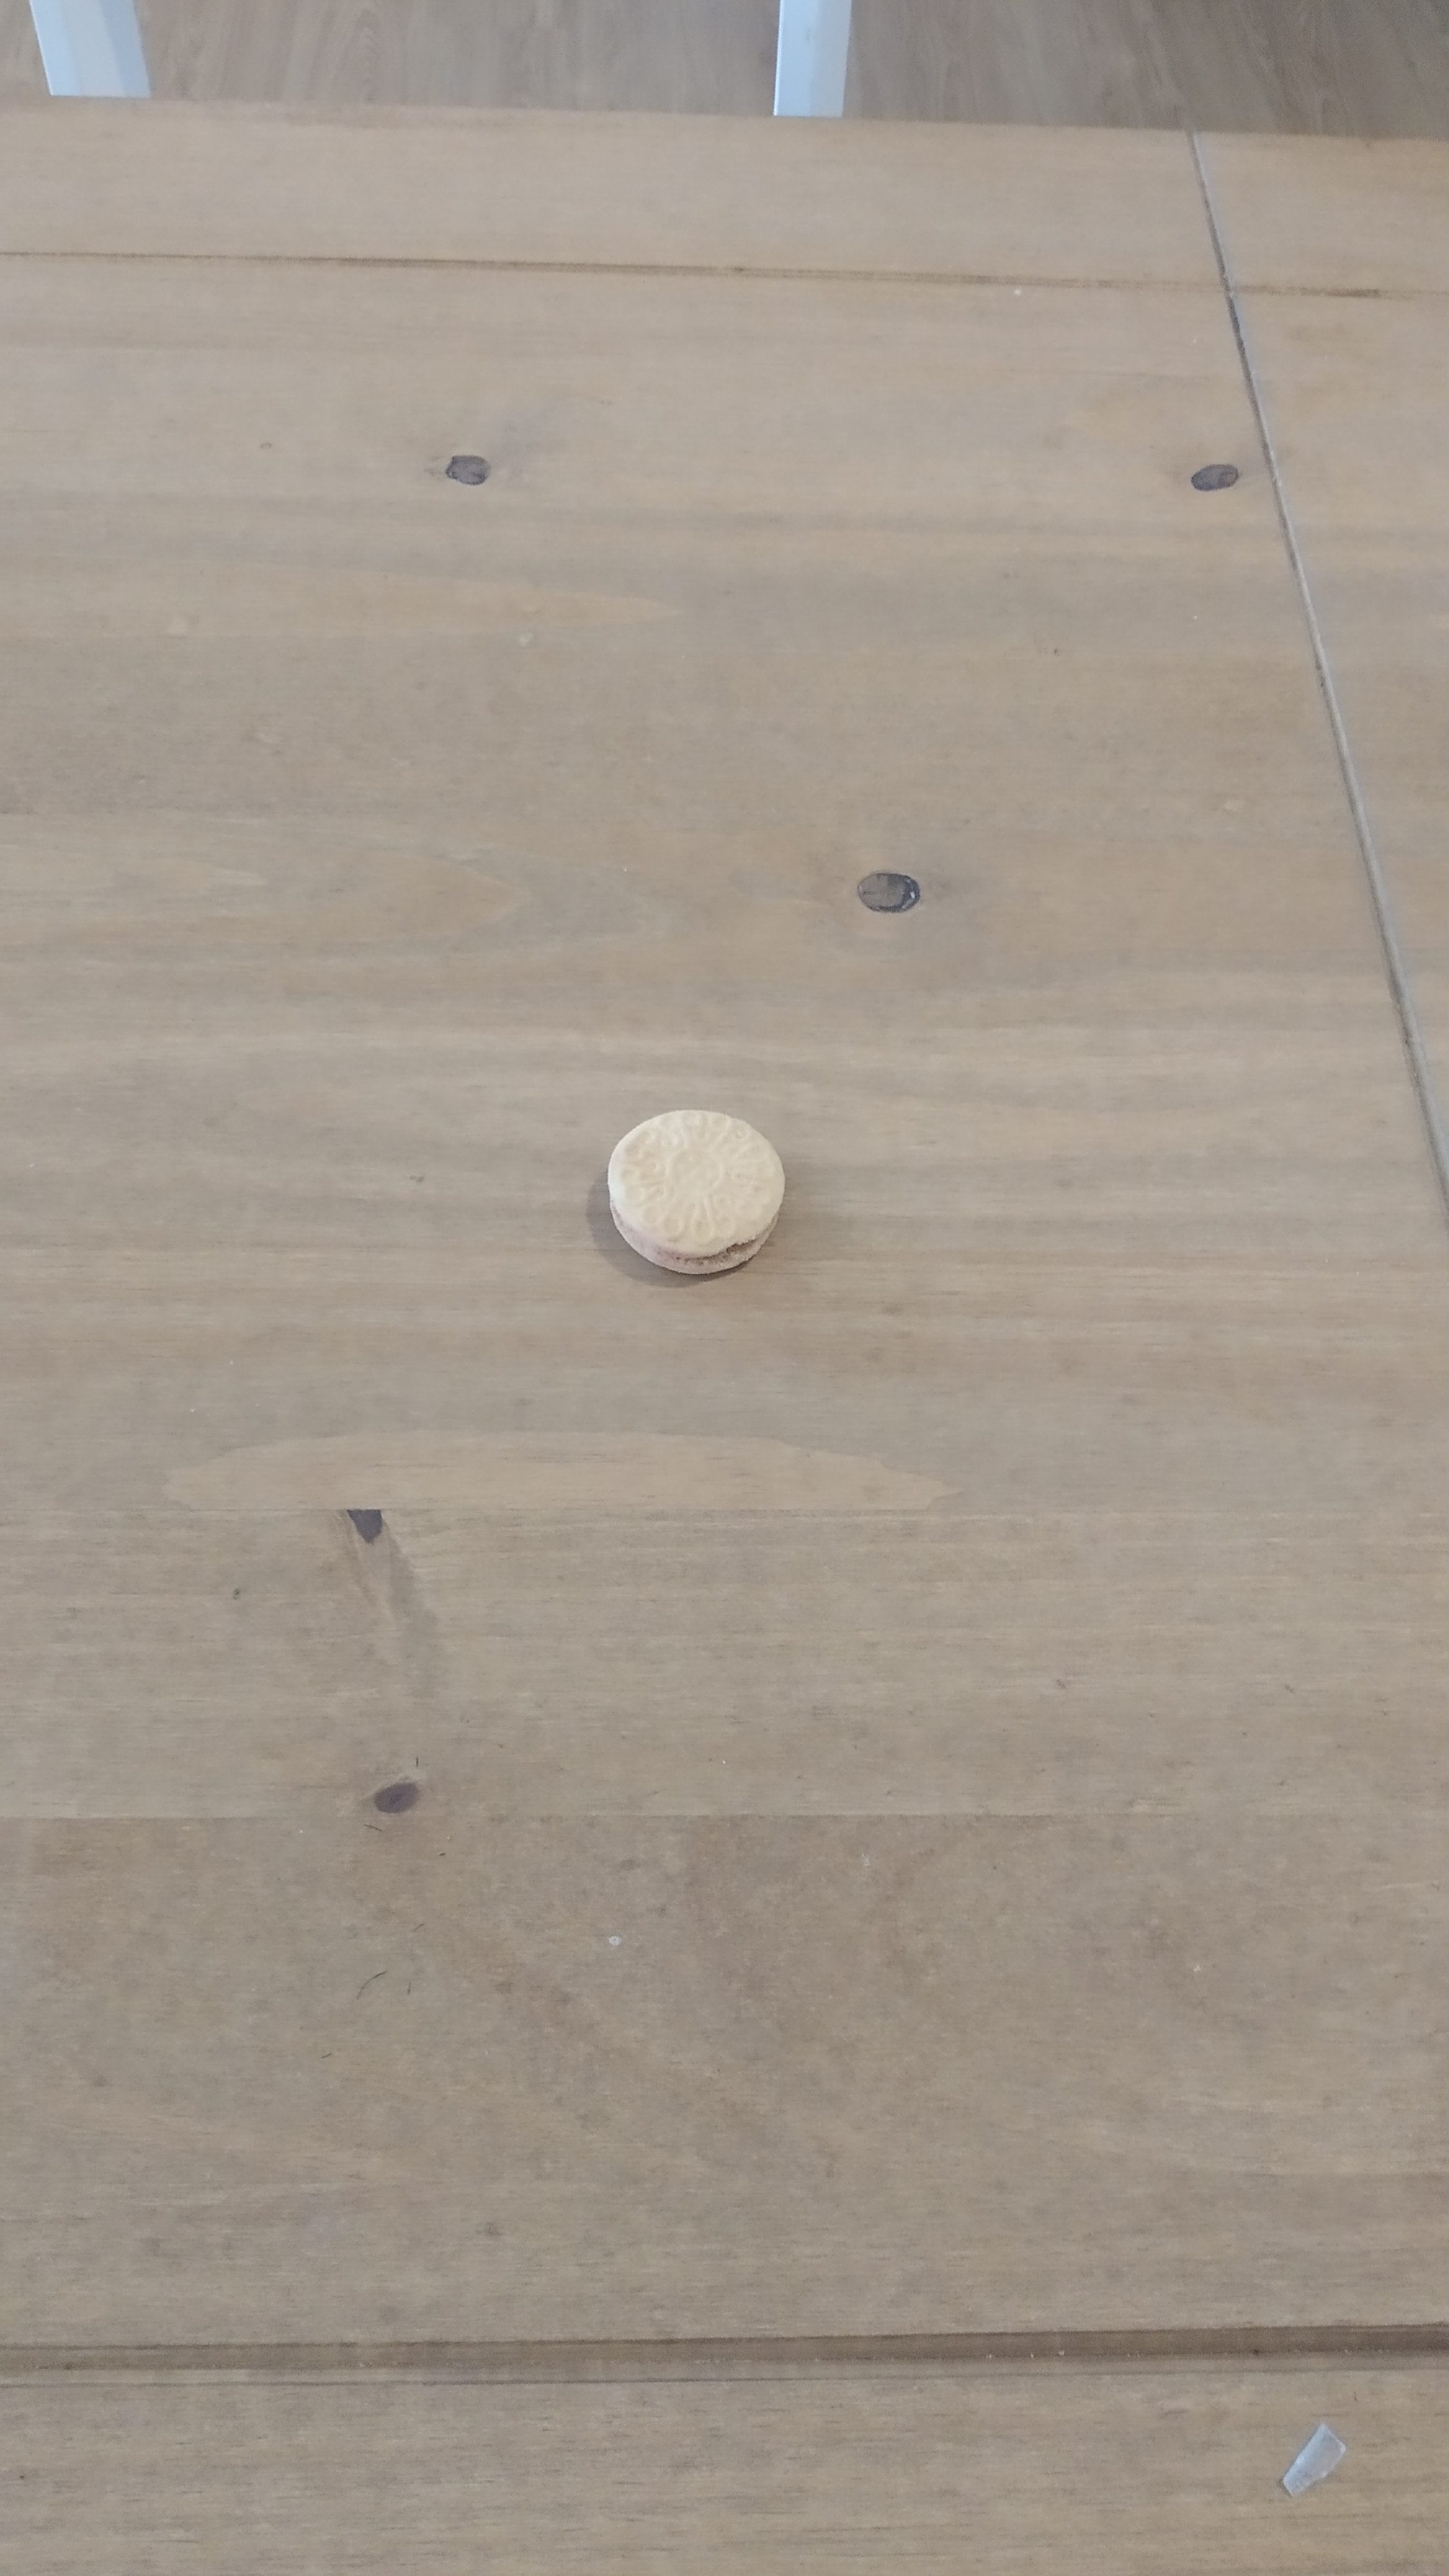lulu: (609, 1109, 786, 1276)
